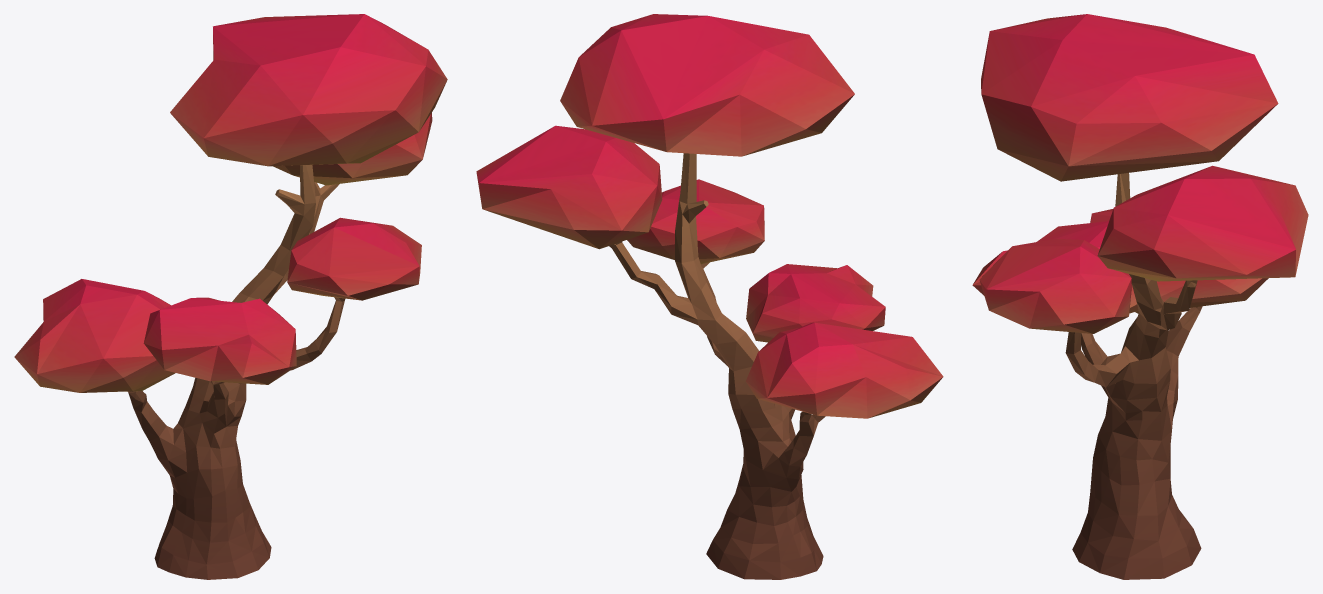
The model's file is ZLP_Plant_A_2.FBX.
3 renders of one model, left to right at view 1: azimuth 30°, elevation 25°; view 2: azimuth 150°, elevation 25°; view 3: azimuth 270°, elevation 25°, orthographic. The views are drawn at different scales.
Visible parts, largest first — view 1: ZLP_Plant_A_2; view 2: ZLP_Plant_A_2; view 3: ZLP_Plant_A_2.
Part boxes in pixels (left/top/right/bottom): ZLP_Plant_A_2: left=14, top=14, right=447, bottom=579; ZLP_Plant_A_2: left=476, top=14, right=943, bottom=579; ZLP_Plant_A_2: left=972, top=14, right=1308, bottom=579.
Bounding box in the file's own units: 398 × 453 × 245.
